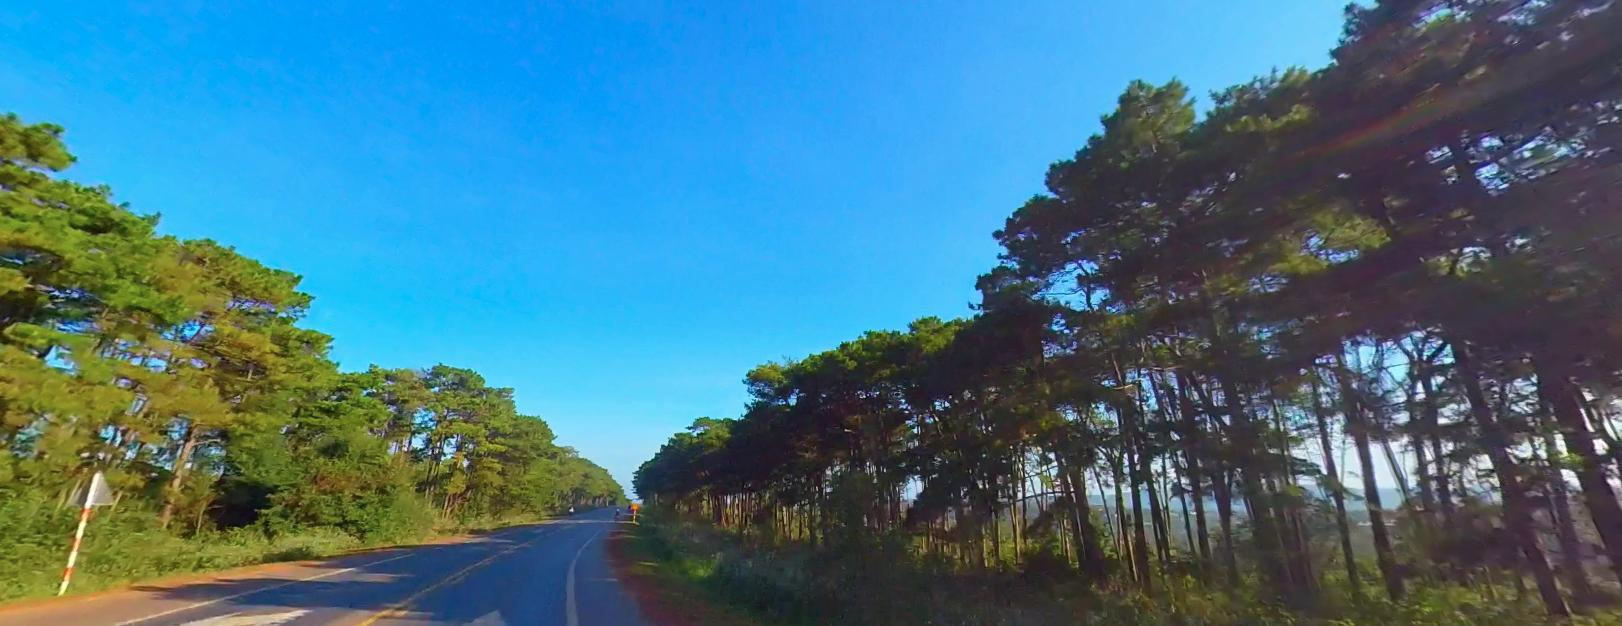Nguy hiem: (629, 501, 638, 508)
